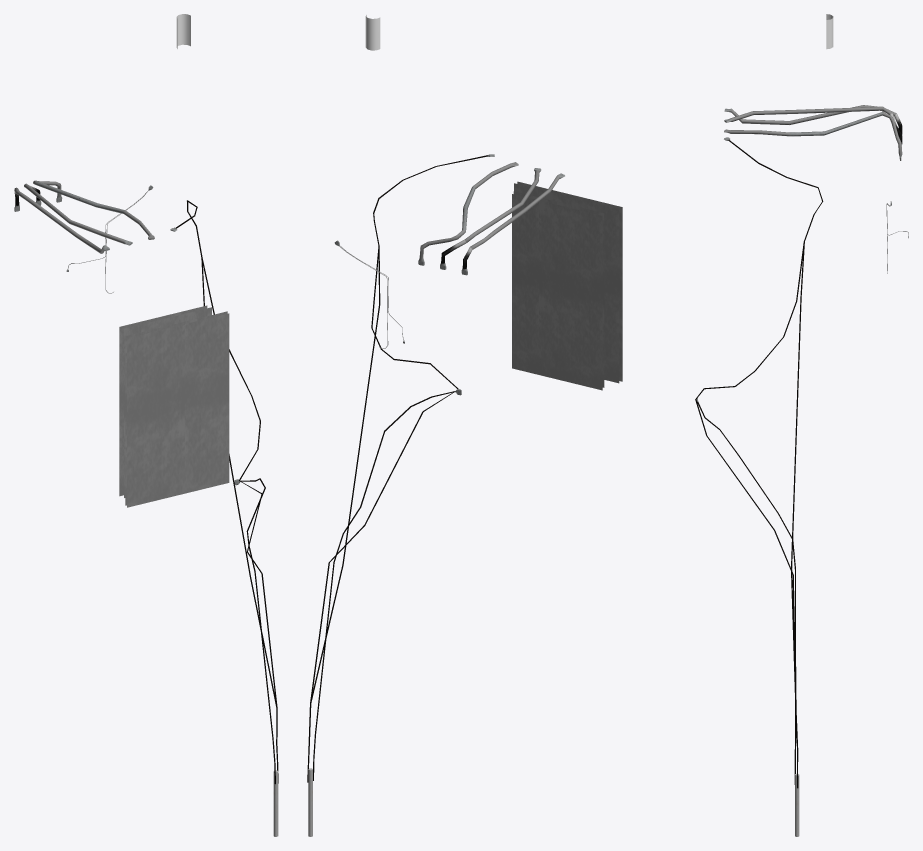
The model's file is Commit_02.FBX.
The picture shows the model from 3 angles, left to right: view 1: azimuth 30°, elevation 25°; view 2: azimuth 150°, elevation 25°; view 3: azimuth 270°, elevation 25°; orthographic projection. The views are drawn at different scales.
Visible parts, largest first — view 1: Plane001, Provod_White_010, Zazemleniye_Error, Provod_White_036, Provod_White_037; view 2: Plane001, Provod_White_010, Provod_White_036, Zazemleniye_Error, Provod_White_037; view 3: Provod_White_010, Provod_White_036, Zazemleniye_Error, Provod_White_037.
Part boxes in pixels (x1,y1,x2,y2): Plane001: (119, 305, 229, 507); Provod_White_010: (14, 180, 154, 253); Zazemleniye_Error: (202, 258, 278, 783); Provod_White_036: (170, 200, 277, 770); Provod_White_037: (234, 478, 275, 784); Plane001: (512, 181, 622, 390); Provod_White_010: (418, 162, 564, 275); Provod_White_036: (307, 154, 494, 782); Zazemleniye_Error: (307, 249, 458, 781); Provod_White_037: (313, 389, 461, 780); Provod_White_010: (724, 105, 902, 160); Provod_White_036: (724, 137, 823, 750); Zazemleniye_Error: (695, 241, 804, 788); Provod_White_037: (696, 398, 796, 784).
Bounding box in the file's own units: 23.59 × 81.36 × 24.25.
Materials: 7 (4 with a texture image).
